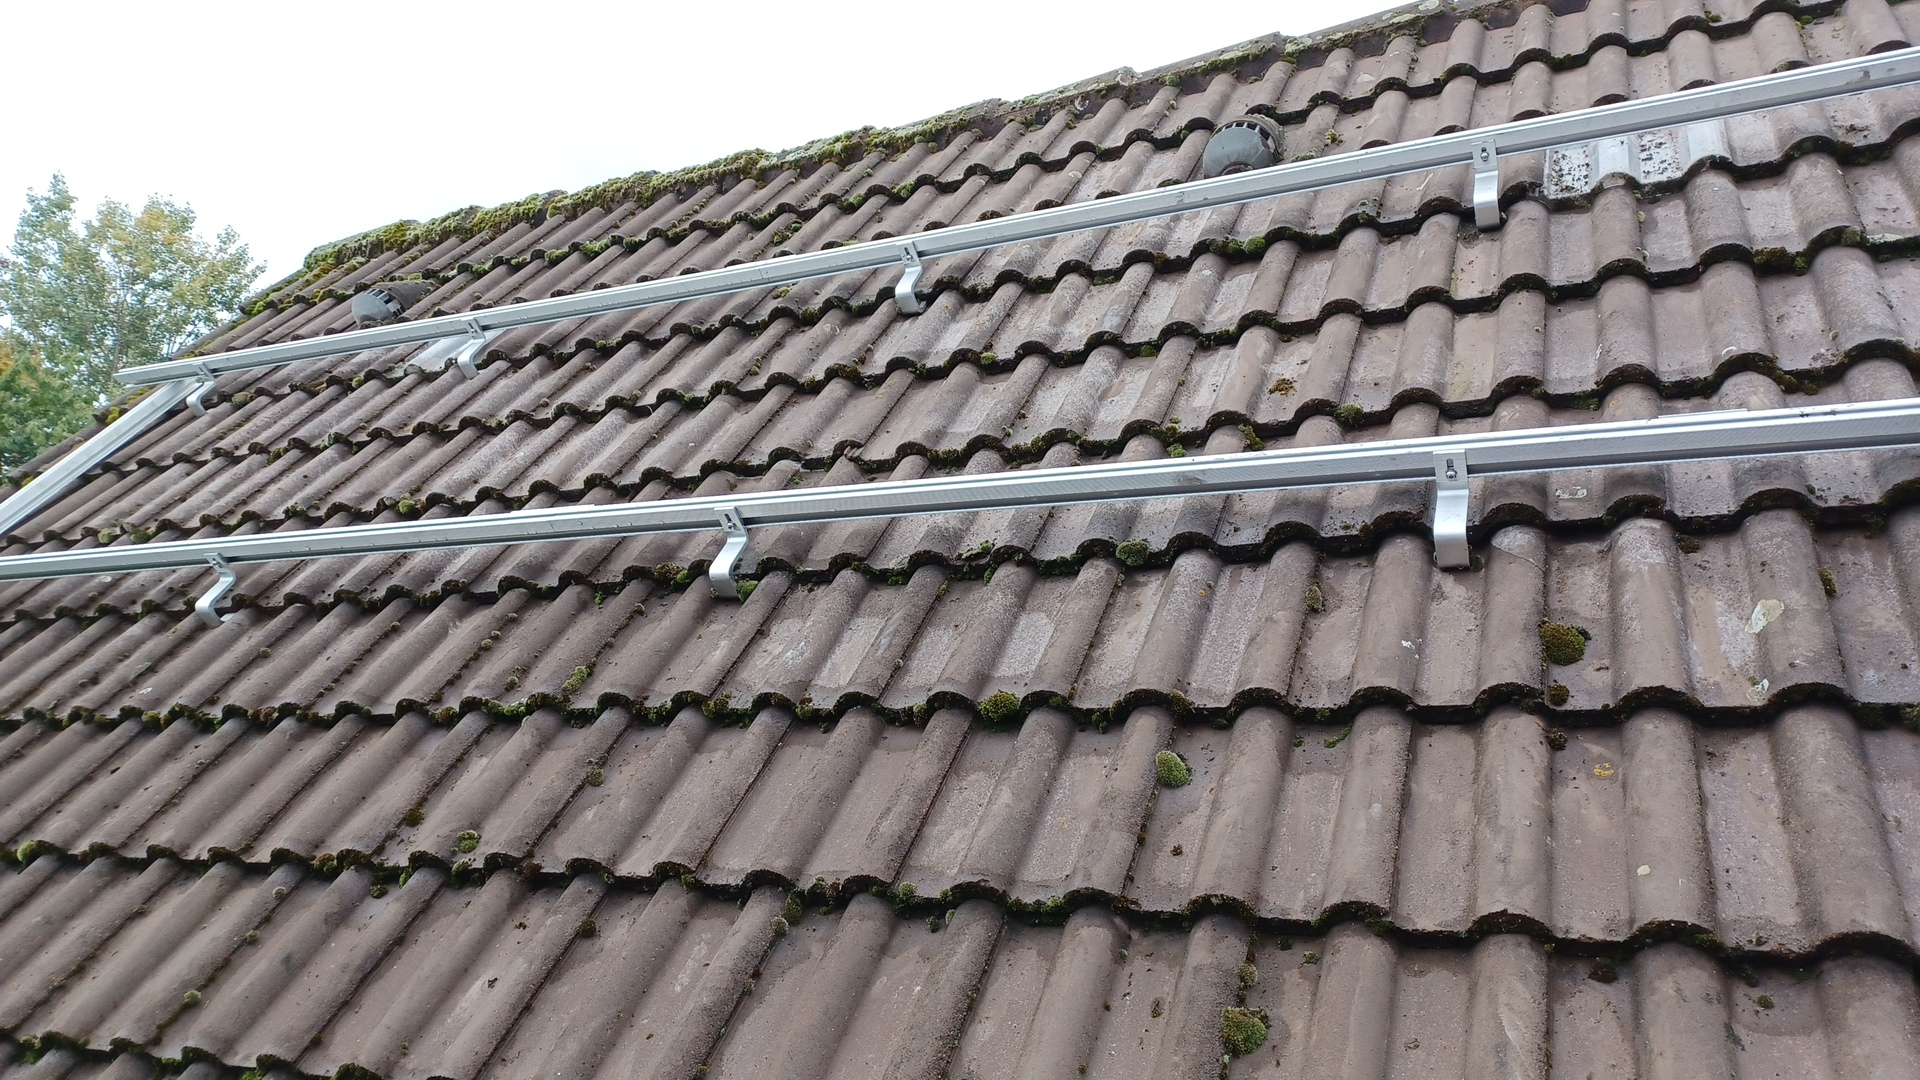hook: (1432, 450, 1473, 568), (709, 506, 758, 599), (194, 553, 235, 629), (1472, 138, 1502, 229), (894, 240, 927, 314), (458, 316, 487, 378), (186, 363, 215, 417)
